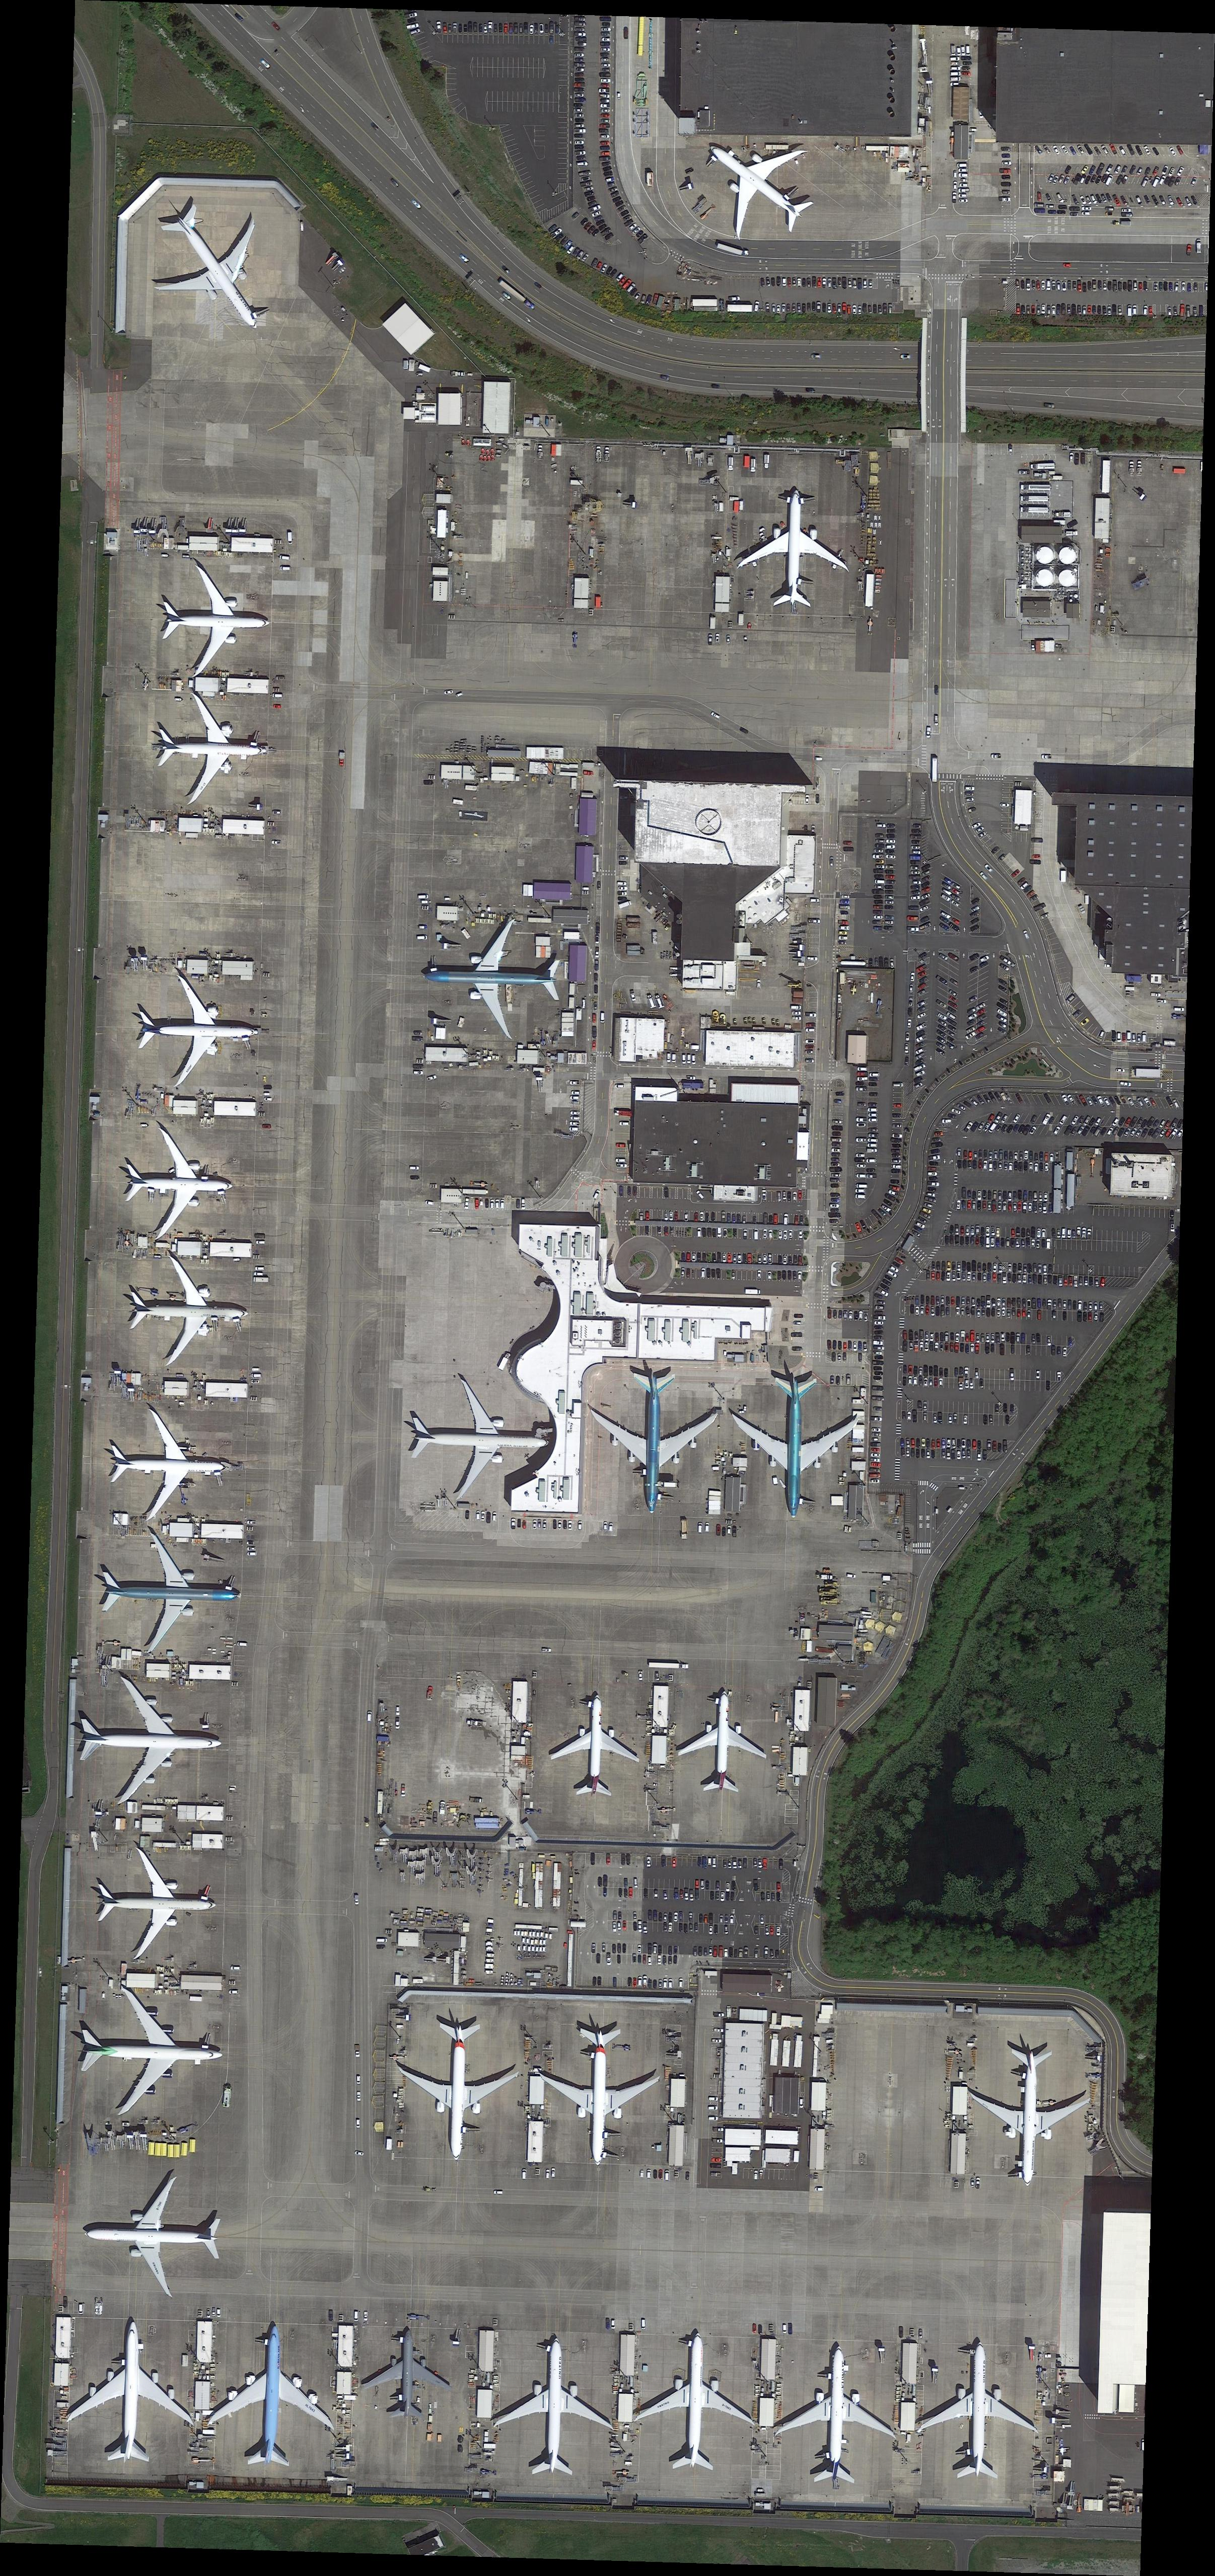plane: (133, 184, 301, 370), (669, 100, 838, 260), (74, 1674, 225, 1814), (77, 1986, 229, 2119), (206, 2321, 340, 2469), (585, 1368, 720, 1515), (728, 1373, 862, 1521), (62, 2320, 199, 2463), (408, 1377, 556, 1505), (771, 2343, 899, 2487), (965, 2045, 1093, 2190), (82, 2170, 225, 2298), (391, 2019, 520, 2162), (916, 2338, 1042, 2482), (534, 2026, 661, 2169), (99, 1533, 243, 1658), (419, 917, 566, 1040), (631, 2331, 756, 2474), (492, 2336, 617, 2476), (136, 974, 261, 1092), (109, 1410, 237, 1525), (94, 1848, 220, 1962), (127, 1257, 252, 1370), (737, 488, 852, 608), (122, 1127, 237, 1245), (159, 563, 273, 683), (155, 693, 270, 807), (676, 1689, 771, 1796), (549, 1695, 643, 1797), (362, 2326, 452, 2418), (534, 125, 546, 146)
